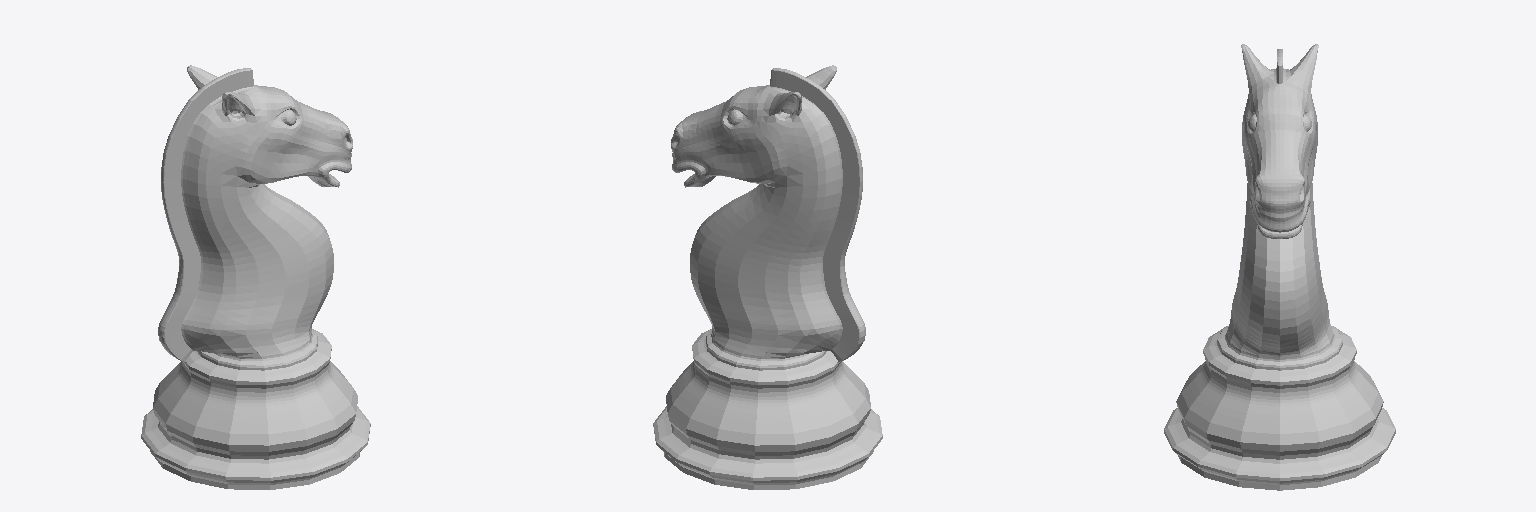
Rendered from bhorse.obj.
3 renders of one model, left to right at view 1: azimuth 30°, elevation 25°; view 2: azimuth 150°, elevation 25°; view 3: azimuth 270°, elevation 25°, orthographic.
Parts seen in each view (by area): view 1: BlackKnight1_Cylinder.027; view 2: BlackKnight1_Cylinder.027; view 3: BlackKnight1_Cylinder.027.
Boxes of the visible parts, x1,y1,x2,y2 form: BlackKnight1_Cylinder.027: [141, 65, 370, 489]; BlackKnight1_Cylinder.027: [653, 65, 882, 489]; BlackKnight1_Cylinder.027: [1164, 44, 1395, 490].
Size of the model in its own units: 1.25 by 2.25 by 1.25.